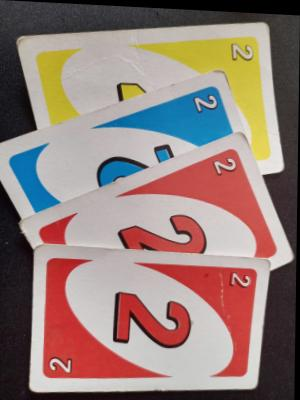blue: (0, 64, 245, 219)
num_2: (83, 124, 182, 187), (209, 146, 245, 181), (225, 33, 261, 65), (188, 87, 223, 118)
yellow: (15, 8, 285, 199)
